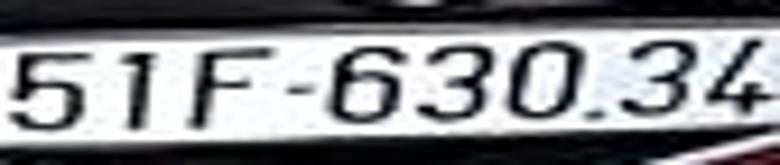-: (286, 83, 313, 100)
.: (585, 105, 604, 121)
0: (511, 40, 581, 117)
1: (118, 49, 154, 134)
3: (623, 40, 697, 113), (424, 44, 489, 119)
4: (706, 39, 771, 114)
5: (14, 49, 93, 129)
6: (326, 44, 404, 123)
F: (193, 49, 268, 127)
